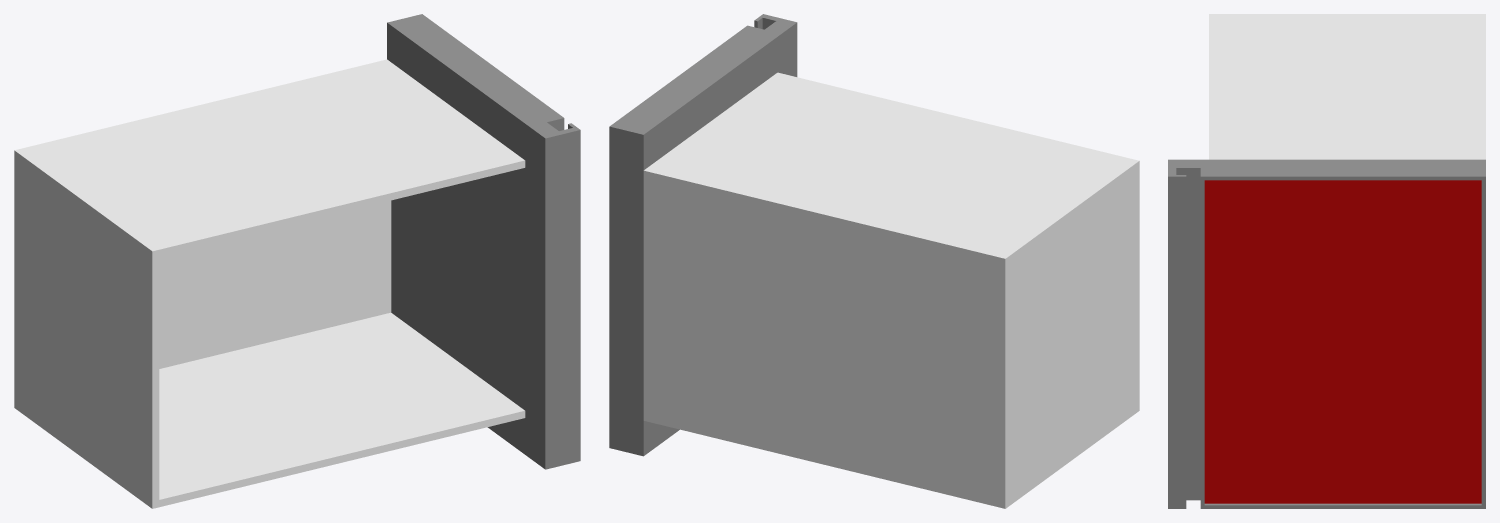
The model's file is ROOM602-KITCHEN-BODYSET7_link_mesh.dae.
3 renders of one model, left to right at view 1: azimuth 30°, elevation 25°; view 2: azimuth 150°, elevation 25°; view 3: azimuth 270°, elevation 25°, orthographic. The views are drawn at different scales.
Visible parts, largest first — view 1: ROOM602-KITCHEN-BODYSET7_link (×2); view 2: ROOM602-KITCHEN-BODYSET7_link (×2); view 3: ROOM602-KITCHEN-BODYSET7_link (×3).
Boxes of the visible parts, box(x1,y1,x2,y2) form: ROOM602-KITCHEN-BODYSET7_link (×2): box(14, 14, 580, 508); ROOM602-KITCHEN-BODYSET7_link (×2): box(609, 14, 1139, 508); ROOM602-KITCHEN-BODYSET7_link (×3): box(1168, 14, 1485, 508).
Size of the model in its own units: 0.58 by 0.45 by 0.39.
